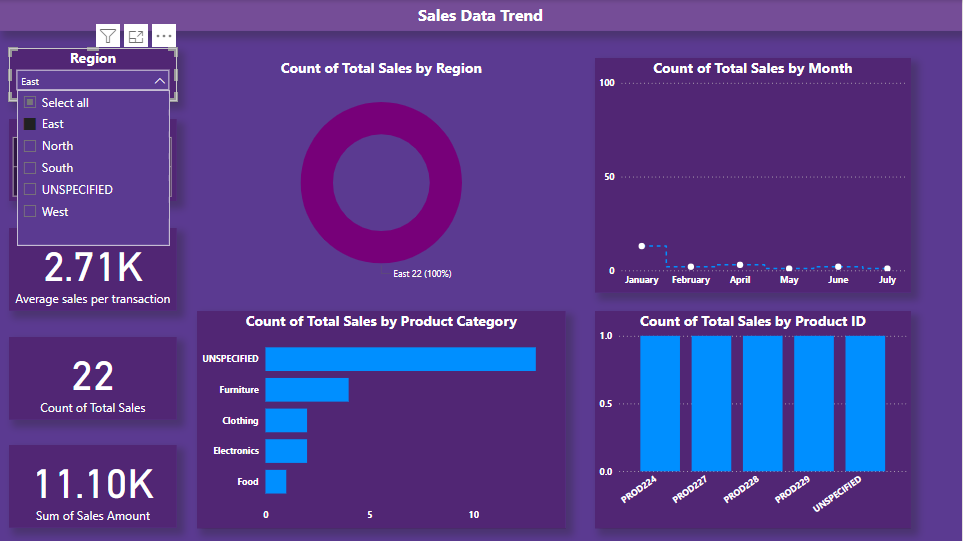

The page's visual inventory and layout, read from the dashboard file:
{"tool":"powerbi","page":{"name":"Sales Data Trend","canvas":[1280,720],"ordinal":0},"visuals":[{"type":"textbox","box":[0,0,1280,41.3],"z":0},{"type":"lineChart","fields":{"Category":["Sales Data.Order Date.Variation.Date Hierarchy.Month"],"Y":["CountNonNull(Sales Data.Total Sales)"]},"box":[792.8,77.1,419.8,312.4],"z":1000},{"type":"barChart","fields":{"Category":["Sales Data.Product Category"],"Y":["CountNonNull(Sales Data.Total Sales)"]},"box":[262.9,412.9,490,289],"z":2000},{"type":"donutChart","fields":{"Category":["Sales Data.Region"],"Y":["CountNonNull(Sales Data.Total Sales)"]},"box":[262.9,77.1,490,312.4],"z":3000},{"type":"columnChart","fields":{"Y":["CountNonNull(Sales Data.Total Sales)"],"Category":["Sales Data.Product ID"]},"box":[792.8,412.9,419.8,289],"z":4000},{"type":"card","fields":{"Values":["Sales Data.Average sales per transactio"]},"box":[13.8,302.8,223,110.1],"z":5000},{"type":"card","fields":{"Values":["CountNonNull(Sales Data.Total Sales)"]},"box":[13.8,447.3,223,110.1],"z":6000},{"type":"card","fields":{"Values":["Sum(Sales Data.Sales Amount)"]},"box":[13.8,591.8,223,110.1],"z":7000},{"type":"advancedSlicerVisual","fields":{"Values":["Sales Data.Order Date.Variation.Date Hierarchy.Quarter"]},"box":[13.8,158.3,223,108.7],"z":8000},{"type":"slicer","title":"Region","fields":{"Values":["Sales Data.Region"]},"box":[13.8,63.3,223,71.6],"z":9000}]}

Visuals, with their boxes in screenshot pixels (x1, y1, x2, y2), scaled from the page's 1280x720 canvas onto the 963x541 screenshot:
textbox: box=[0, 0, 962, 31]
lineChart - Sales Data.Order Date.Variation.Date Hierarchy.Month x CountNonNull(Sales Data.Total Sales): box=[596, 58, 912, 293]
barChart - Sales Data.Product Category x CountNonNull(Sales Data.Total Sales): box=[198, 310, 566, 527]
donutChart - Sales Data.Region x CountNonNull(Sales Data.Total Sales): box=[198, 58, 566, 293]
columnChart - CountNonNull(Sales Data.Total Sales) x Sales Data.Product ID: box=[596, 310, 912, 527]
card - Sales Data.Average sales per transactio: box=[10, 228, 178, 310]
card - CountNonNull(Sales Data.Total Sales): box=[10, 336, 178, 419]
card - Sum(Sales Data.Sales Amount): box=[10, 445, 178, 527]
advancedSlicerVisual - Sales Data.Order Date.Variation.Date Hierarchy.Quarter: box=[10, 119, 178, 201]
"Region" slicer: box=[10, 48, 178, 101]
